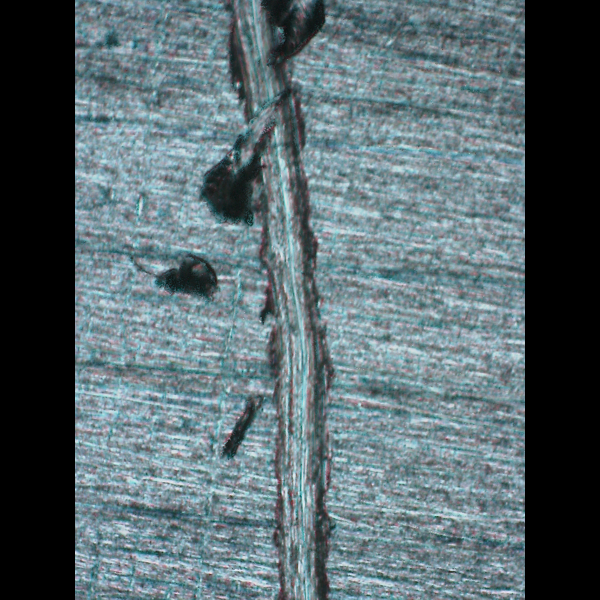d: (138, 1, 356, 600)
